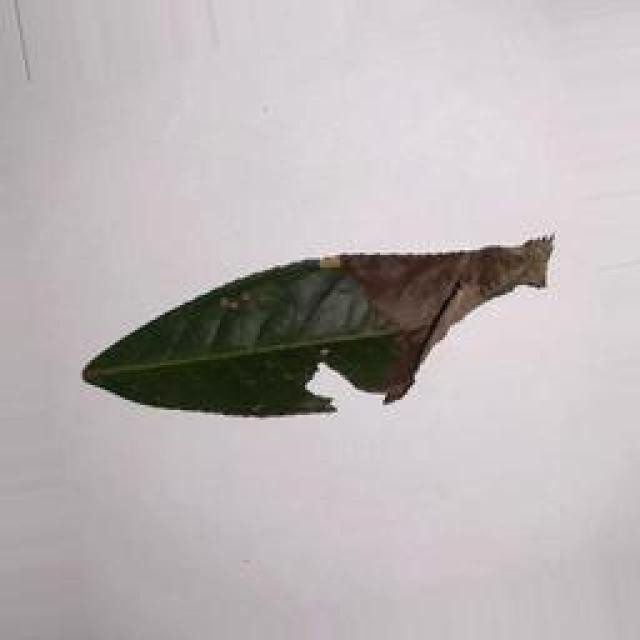Brown Blight: (64, 233, 566, 434)
